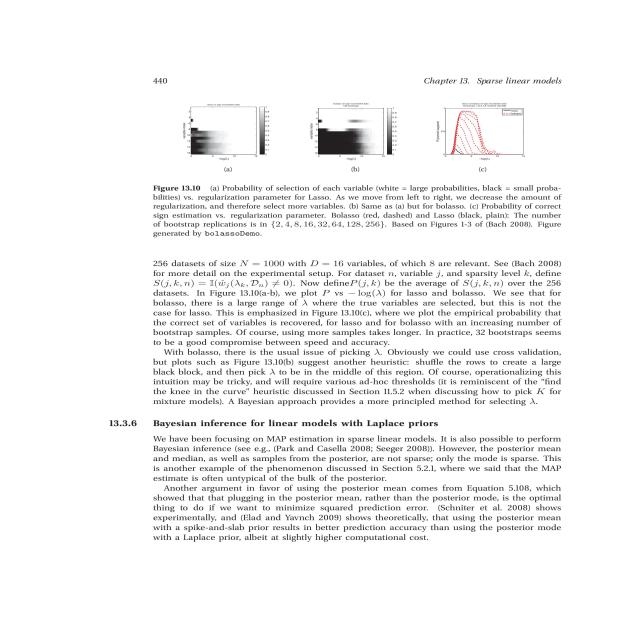diagram: (84, 88, 601, 250)
